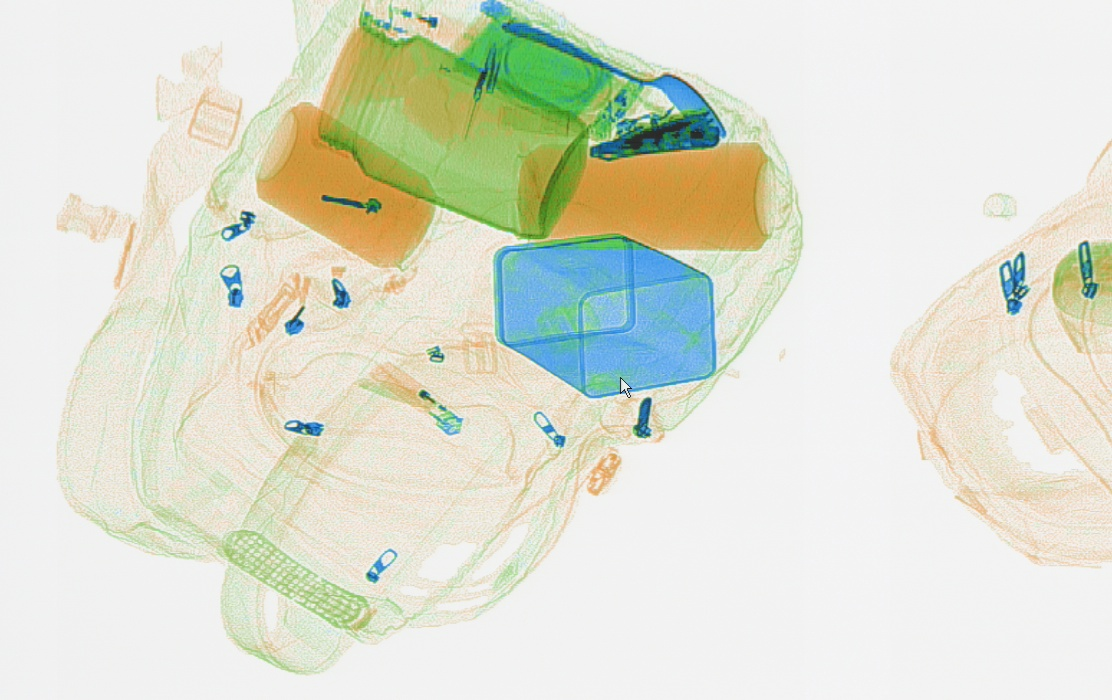knife: (588, 107, 720, 160)
lighter: (370, 356, 467, 439)
